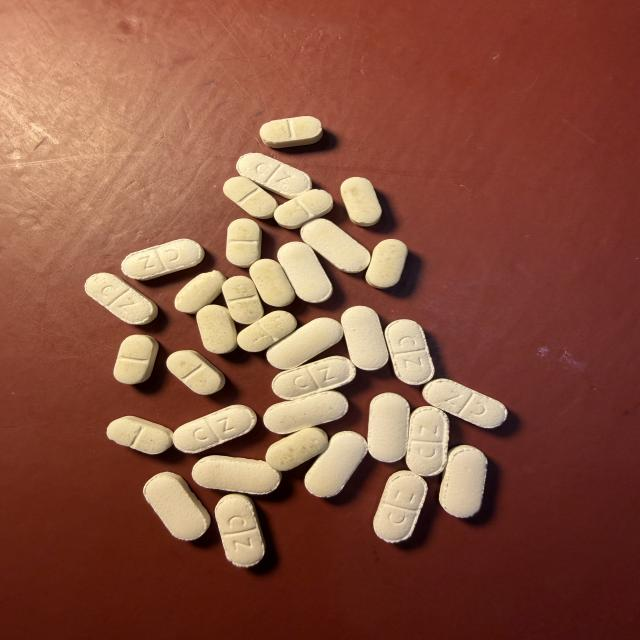pill: (144, 472, 210, 540), (423, 379, 507, 428), (305, 431, 367, 497), (174, 405, 256, 453), (267, 318, 343, 369), (374, 471, 427, 543), (301, 219, 370, 273), (85, 273, 157, 324), (264, 391, 348, 434), (215, 494, 264, 567), (272, 356, 355, 399), (237, 153, 311, 199), (192, 456, 281, 494), (122, 239, 204, 280), (278, 242, 332, 303), (440, 446, 486, 517), (385, 320, 434, 384), (341, 306, 388, 370), (406, 407, 448, 476), (368, 393, 409, 462), (265, 427, 328, 471), (167, 350, 225, 394), (107, 416, 172, 454), (238, 311, 296, 352), (223, 177, 277, 219), (275, 190, 333, 229), (114, 335, 158, 384), (175, 271, 226, 313), (250, 259, 295, 306), (366, 239, 407, 288), (260, 116, 322, 148), (196, 305, 237, 353), (341, 177, 381, 226), (223, 276, 263, 324), (226, 219, 261, 267)
